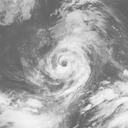cyclone: (41, 38, 90, 84)
